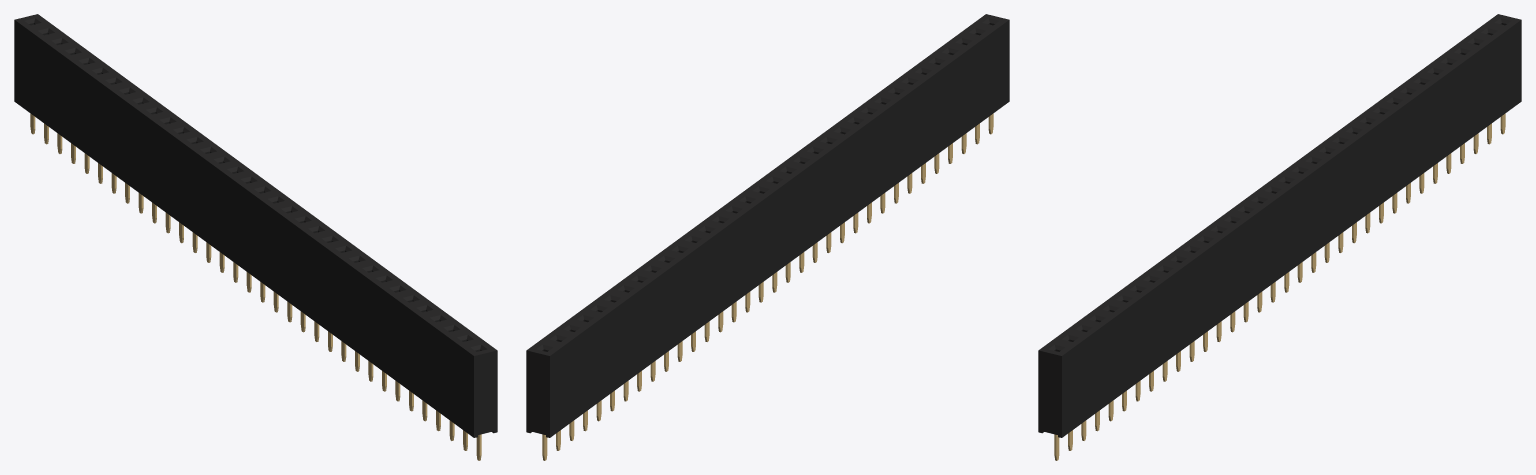
Rendered from kc-pinsocket_1x34_p2.54mm_vertical.glb.
3 renders of one model, left to right at view 1: azimuth 30°, elevation 25°; view 2: azimuth 150°, elevation 25°; view 3: azimuth 330°, elevation 25°, orthographic.
Visible parts, largest first — view 1: 0_0_0_0, 0.75_0.5_0.25_0.9; view 2: 0_0_0_0, 0.75_0.5_0.25_0.9; view 3: 0_0_0_0, 0.75_0.5_0.25_0.9.
Boxes of the visible parts, bbox=[...] form: 0_0_0_0: bbox=[14, 14, 497, 437]; 0.75_0.5_0.25_0.9: bbox=[30, 113, 481, 460]; 0_0_0_0: bbox=[526, 14, 1009, 437]; 0.75_0.5_0.25_0.9: bbox=[542, 113, 993, 460]; 0_0_0_0: bbox=[1038, 14, 1521, 437]; 0.75_0.5_0.25_0.9: bbox=[1054, 113, 1505, 460].
Bounding box in the file's own units: 0.2541 × 1.16 × 8.64.
